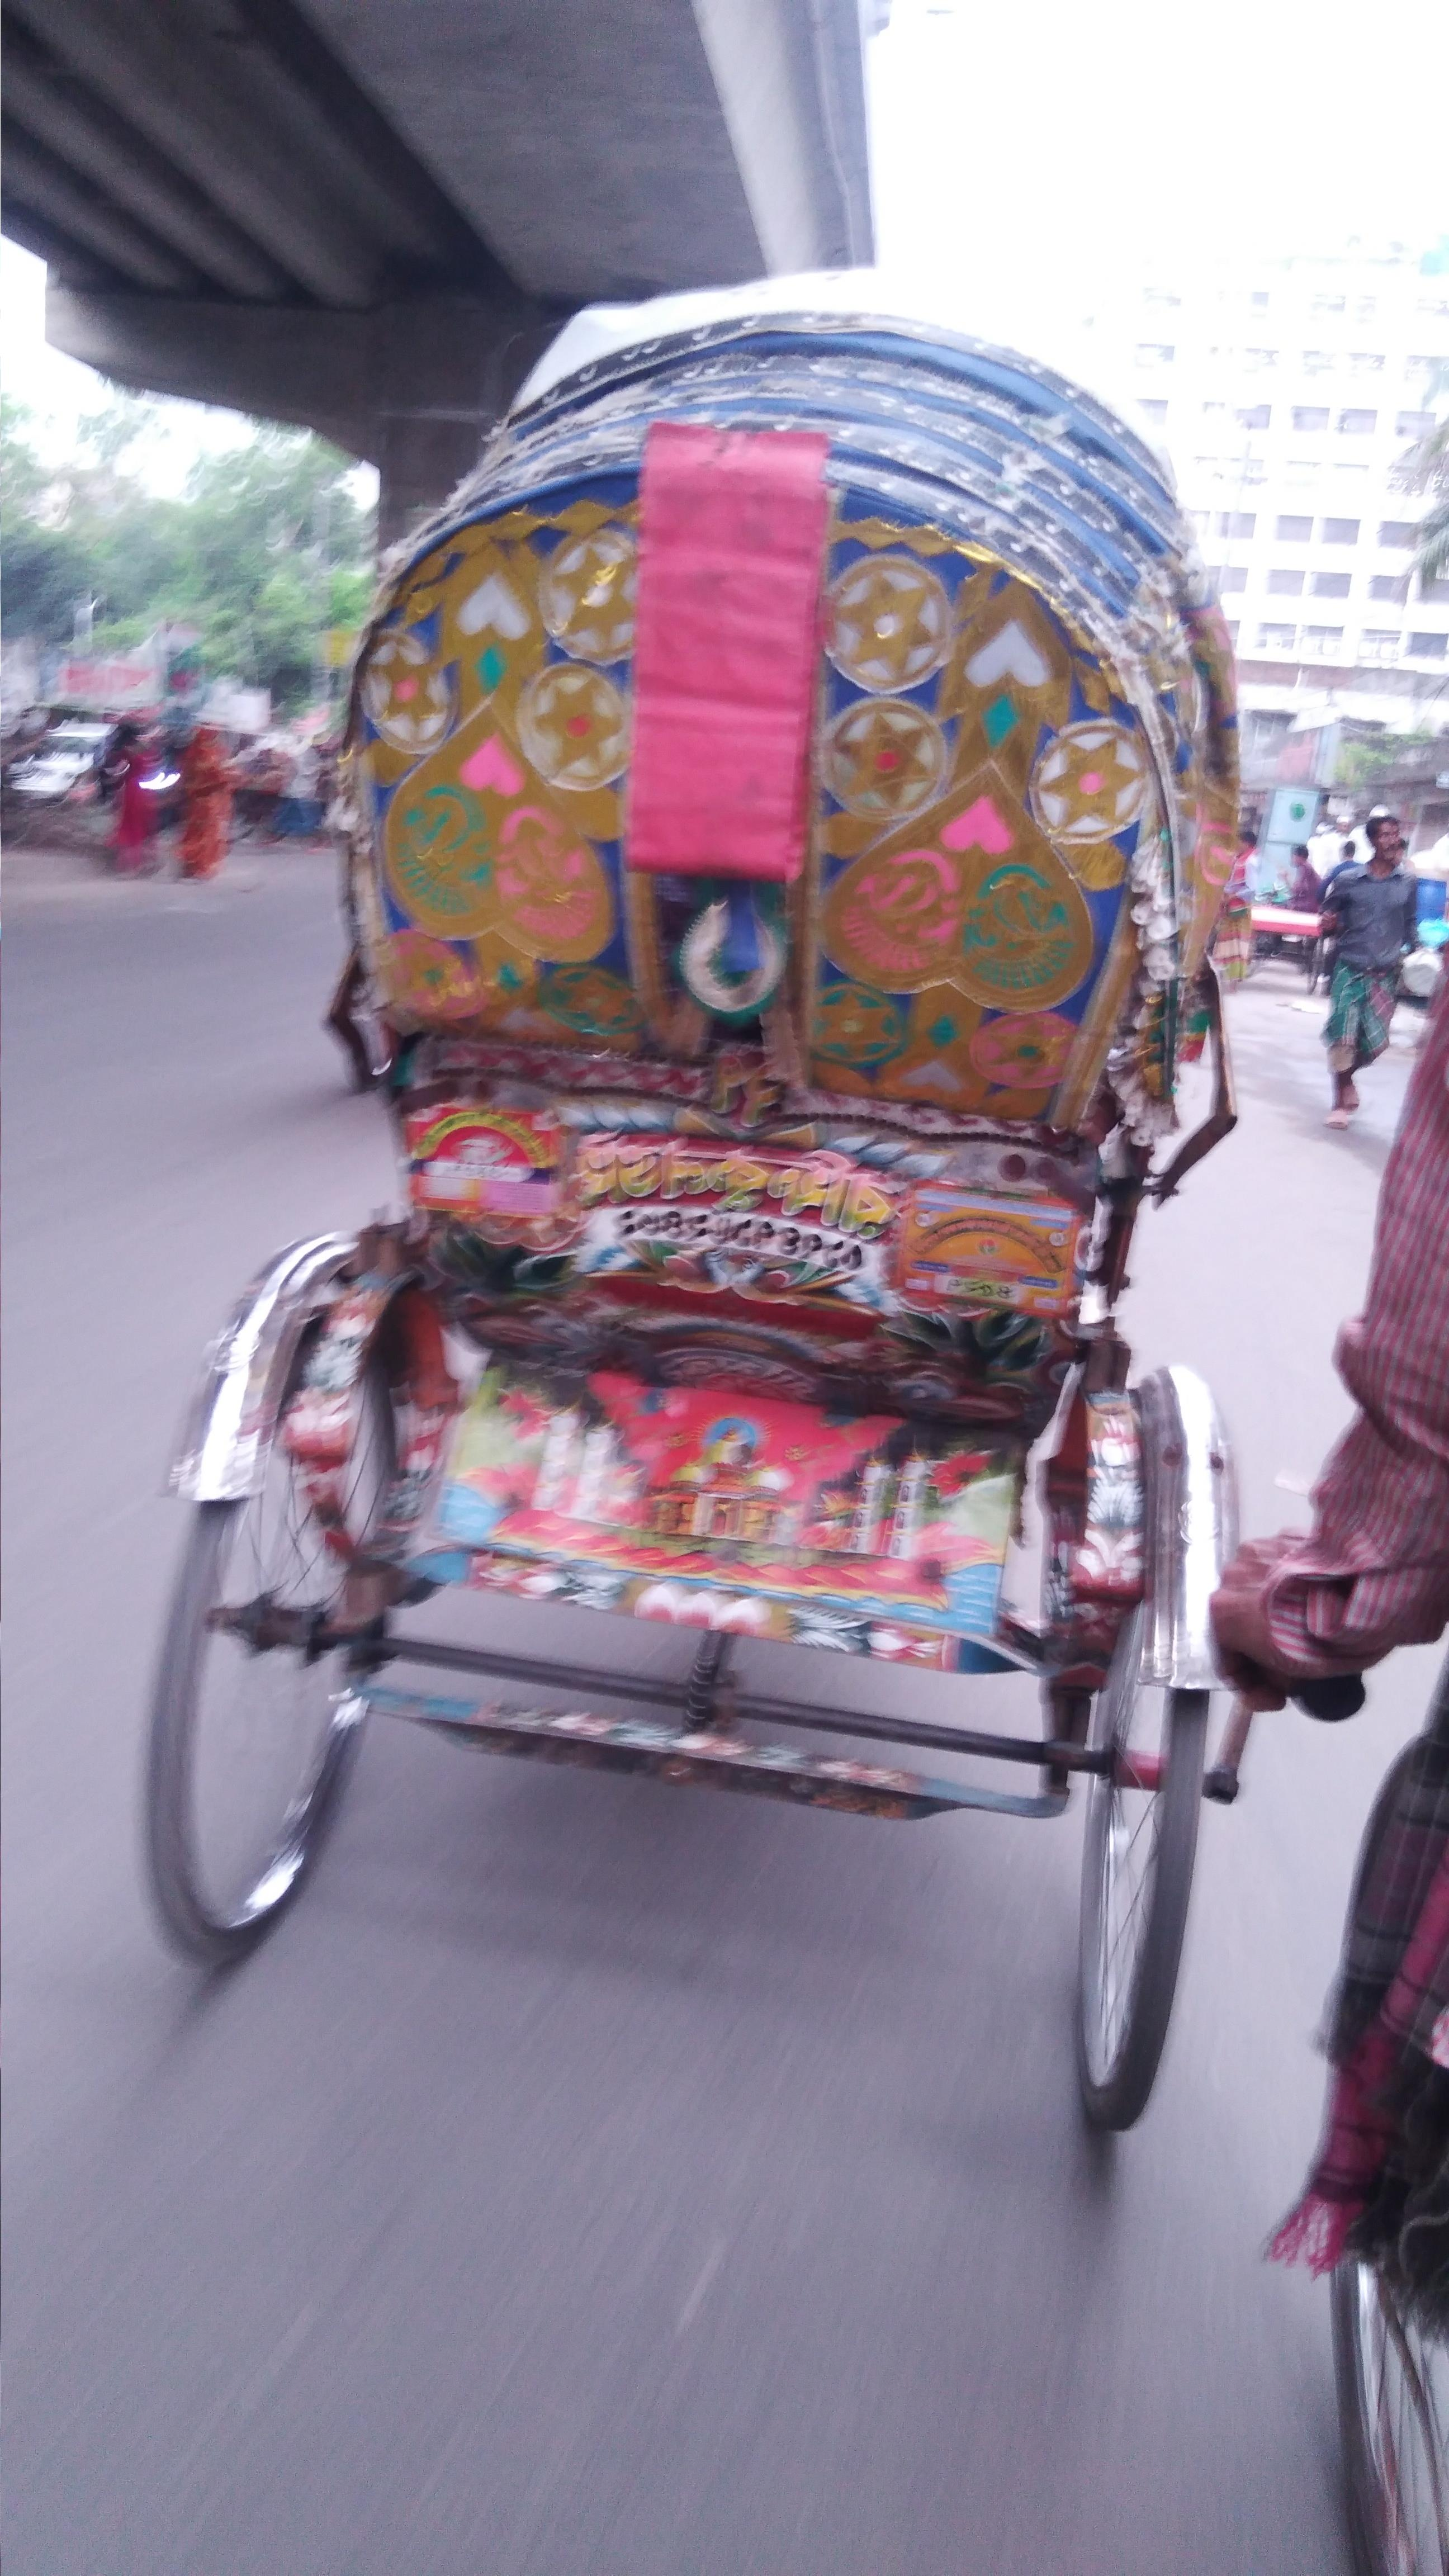Rickshaw: (168, 264, 1295, 2120)
